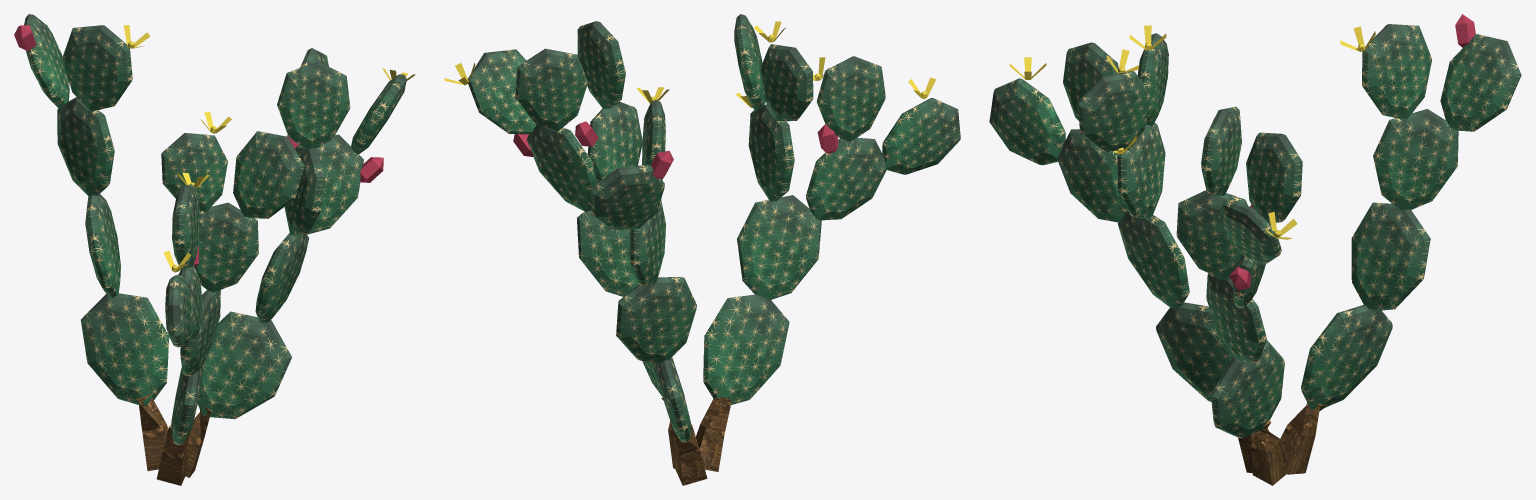
File: prickly_pear_v02_LOD1.fbx
3 views of the same model, side by side, from view 1: azimuth 30°, elevation 25°; view 2: azimuth 150°, elevation 25°; view 3: azimuth 270°, elevation 25° (orthographic). The views are drawn at different scales.
Parts seen in each view (by area): view 1: prickly_pear_v02_LOD1; view 2: prickly_pear_v02_LOD1; view 3: prickly_pear_v02_LOD1.
Boxes of the visible parts, x1,y1,x2,y2 form: prickly_pear_v02_LOD1: (14,14,415,485); prickly_pear_v02_LOD1: (444,14,960,485); prickly_pear_v02_LOD1: (989,14,1521,485).
Bounding box in the file's own units: 80.28 × 85 × 92.43.
4 materials, 2 textured.
